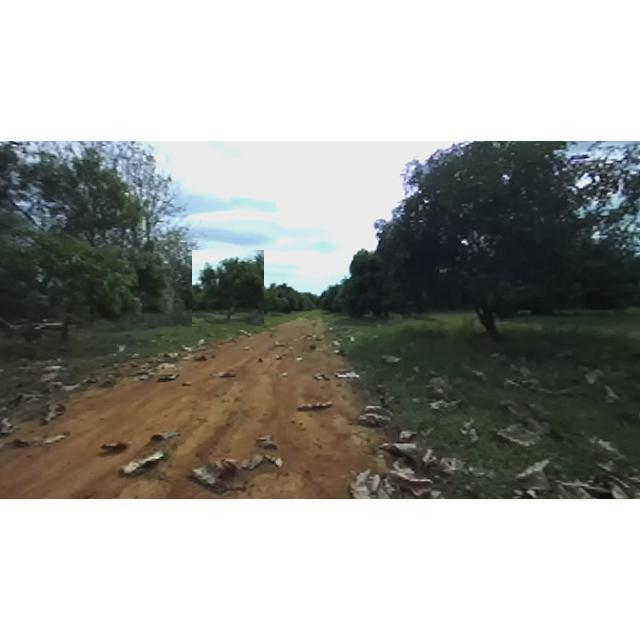direk: (380, 142, 612, 344), (0, 142, 188, 352), (338, 236, 428, 324), (192, 250, 264, 326), (252, 270, 294, 318)
